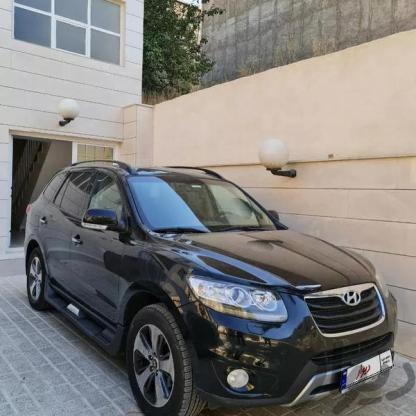Car: (6, 151, 416, 416)
